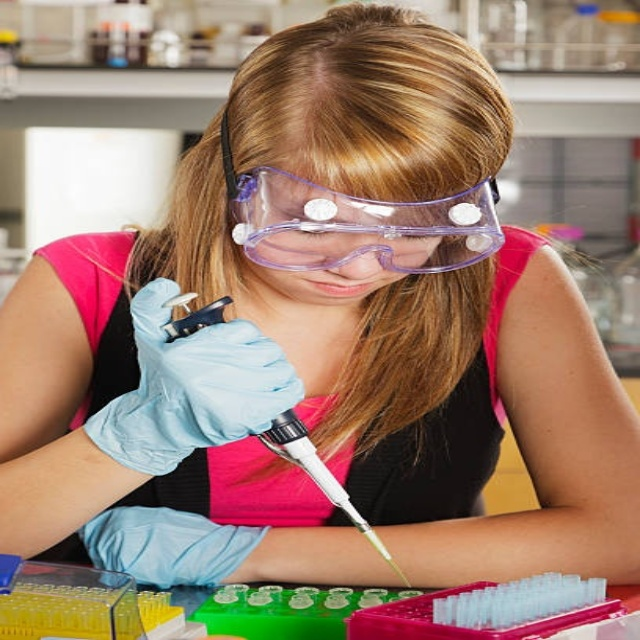Gafas: (224, 160, 507, 277)
Guantes: (80, 279, 306, 475), (78, 504, 271, 590)
Sin_mascara: (296, 273, 392, 306)
